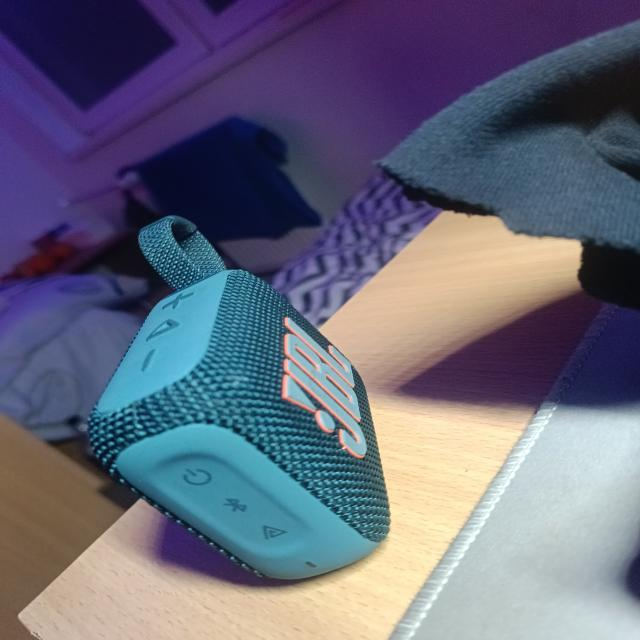column JBL: (88, 217, 390, 579)
